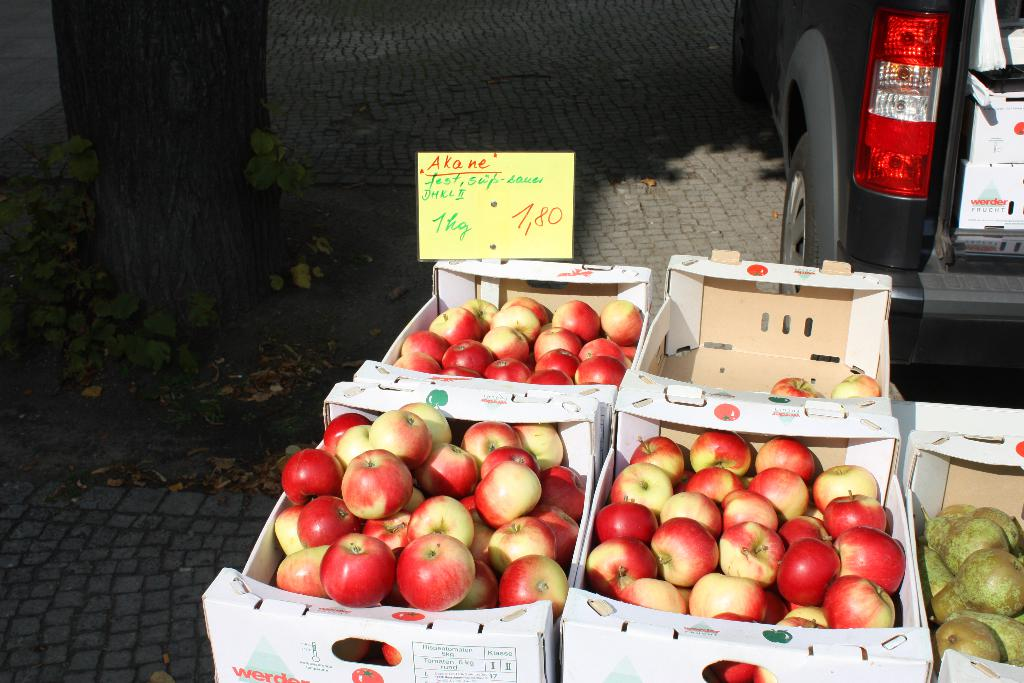Apple: (273, 401, 589, 664), (584, 431, 909, 682), (391, 295, 644, 390), (915, 505, 1023, 666), (651, 516, 719, 586), (832, 372, 881, 396), (771, 372, 816, 397), (764, 627, 791, 641)
